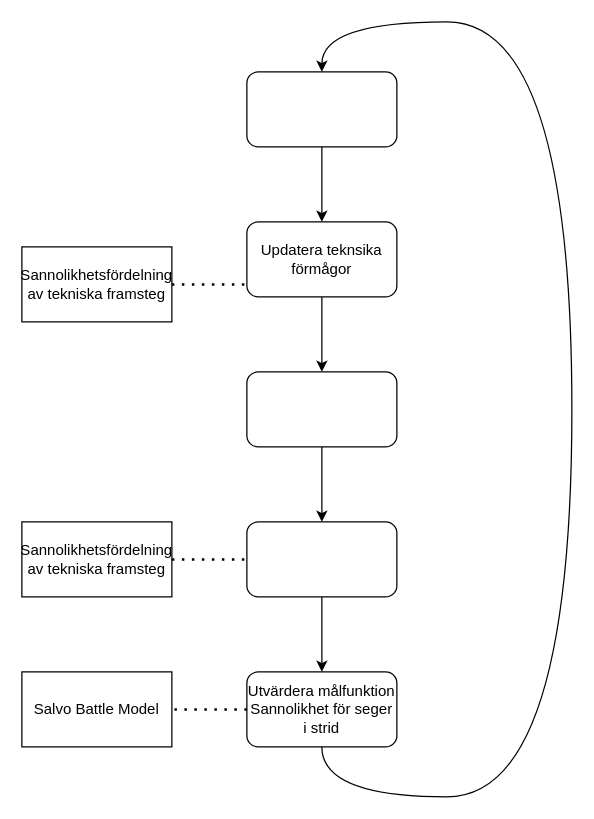
Some shapes in this 594 by 819 pixel diagram are drawn without their labels. Here are the shapes that lost their labels. From the top down, the centre of each, then its label:
At point (321, 109): "Spelare väljer Teknikinvestering".
At point (321, 409): "Beräkna TRL för varje teknologiområde".
At point (321, 559): "Beräkna stridsparameterar från TRL".
